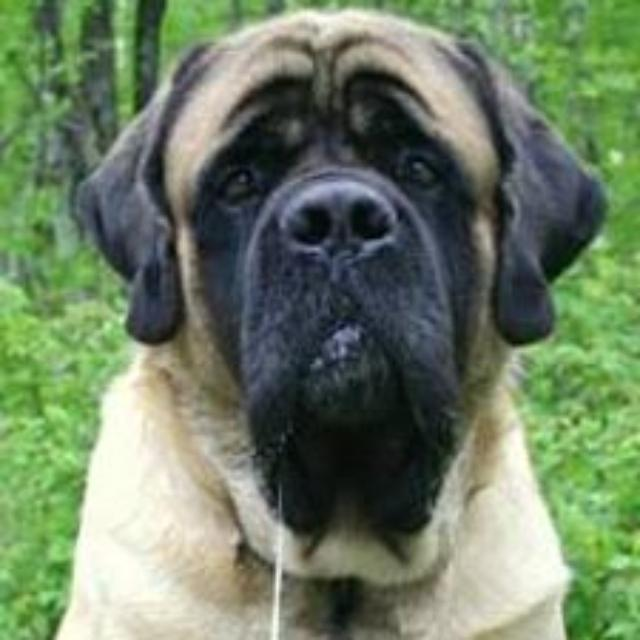mastiff: (28, 7, 613, 638)
